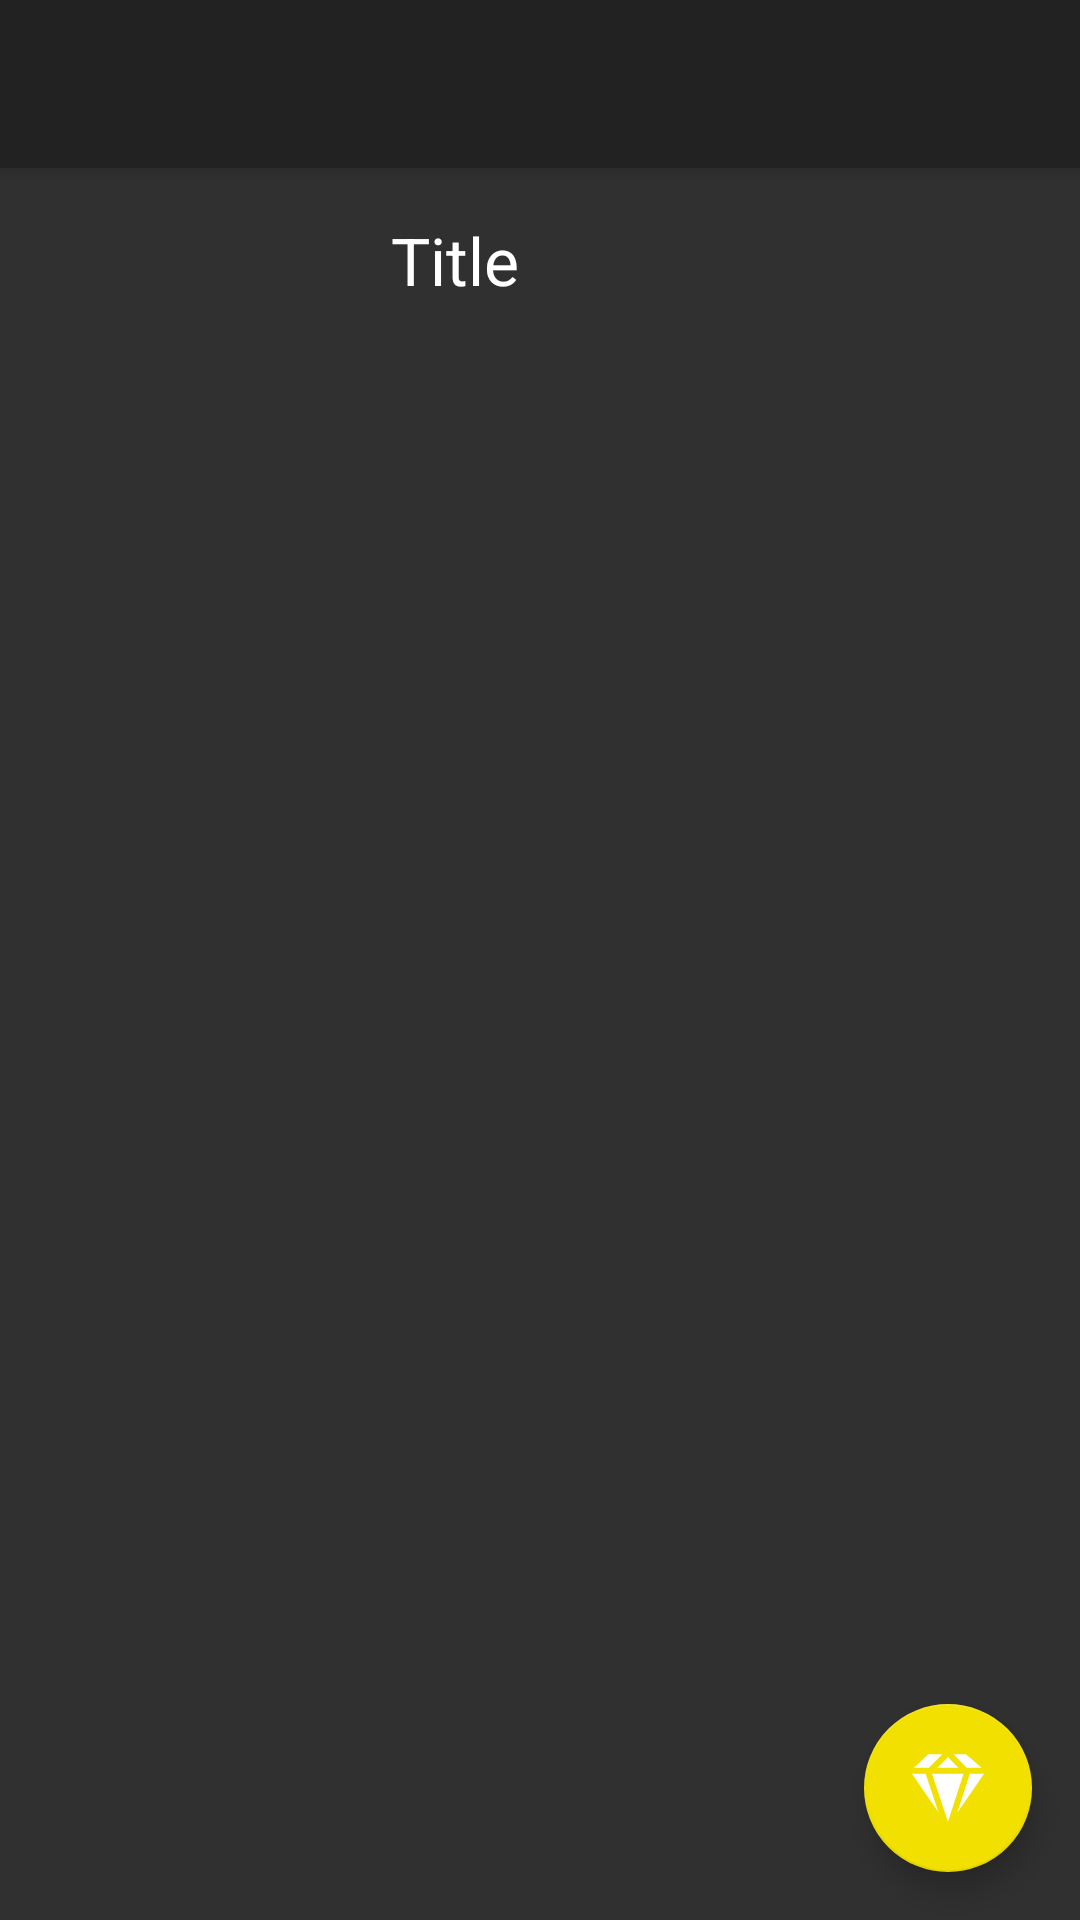

Point at icon controls on the screen. Image size 1080px×1920px, points as [x,y].
premium: [948,1788]
